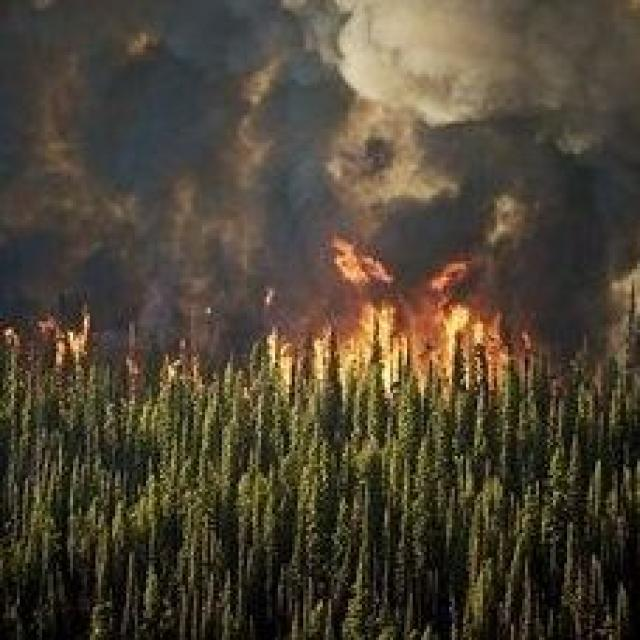Fire: (300, 262, 513, 398), (27, 304, 109, 373)
Smoke: (5, 0, 640, 329)
